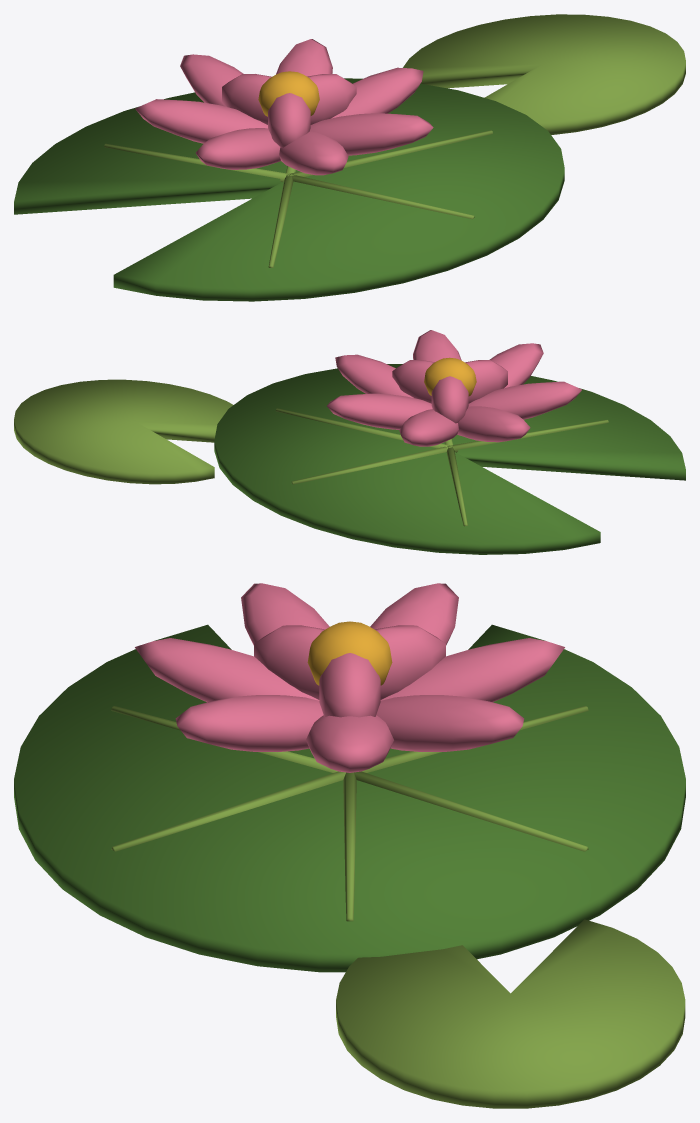
File: lvl02_environment_flowering_lily_pads_lite_v01.glb
The picture shows the model from 3 angles, top to bottom: view 1: azimuth 30°, elevation 25°; view 2: azimuth 150°, elevation 25°; view 3: azimuth 270°, elevation 25°; orthographic projection. The views are drawn at different scales.
Visible parts, largest first — view 1: lily_pad_main, lily_pad_small, flower_outer_petal_6, flower_outer_petal_3, flower_outer_petal_4, flower_outer_petal_0, flower_outer_petal_5, flower_outer_petal_2, flower_inner_petal_2, flower_heart, flower_inner_petal_0, flower_inner_petal_1 (+5 smaller); view 2: lily_pad_main, lily_pad_small, flower_outer_petal_1, flower_outer_petal_4, flower_outer_petal_3, flower_outer_petal_0, flower_outer_petal_2, flower_outer_petal_5, flower_inner_petal_1, flower_heart, flower_inner_petal_0, flower_inner_petal_2 (+5 smaller); view 3: lily_pad_main, lily_pad_small, flower_outer_petal_1, flower_outer_petal_6, flower_outer_petal_2, flower_outer_petal_5, flower_outer_petal_0, flower_inner_petal_0, flower_heart, flower_outer_petal_3, flower_outer_petal_4, flower_inner_petal_1 (+6 smaller).
Part boxes in pixels (x1,y1,x2,y2): lily_pad_main: (14, 78, 564, 301); lily_pad_small: (403, 14, 685, 134); flower_outer_petal_6: (310, 113, 433, 155); flower_outer_petal_3: (135, 99, 267, 143); flower_outer_petal_4: (196, 128, 280, 169); flower_outer_petal_0: (331, 67, 423, 118); flower_outer_petal_5: (279, 131, 348, 175); flower_outer_petal_2: (180, 54, 243, 106); flower_inner_petal_2: (268, 93, 310, 147); flower_heart: (258, 71, 319, 116); flower_inner_petal_0: (307, 74, 356, 124); flower_inner_petal_1: (222, 74, 271, 124); lily_pad_main: (214, 364, 685, 554); lily_pad_small: (14, 379, 233, 484); flower_outer_petal_1: (327, 393, 432, 429); flower_outer_petal_4: (468, 381, 581, 419); flower_outer_petal_3: (457, 406, 530, 442); flower_outer_petal_0: (335, 354, 413, 397); flower_outer_petal_2: (399, 409, 458, 446); flower_outer_petal_5: (489, 343, 543, 388); flower_inner_petal_1: (431, 376, 468, 423); flower_heart: (424, 357, 476, 396); flower_inner_petal_0: (392, 360, 434, 403); flower_inner_petal_2: (465, 360, 507, 403); lily_pad_main: (14, 624, 685, 972); lily_pad_small: (336, 919, 685, 1108); flower_outer_petal_1: (376, 695, 524, 751); flower_outer_petal_6: (175, 695, 323, 751); flower_outer_petal_2: (380, 638, 564, 702); flower_outer_petal_5: (135, 638, 319, 702); flower_outer_petal_0: (306, 715, 393, 772); flower_inner_petal_0: (319, 653, 380, 717); flower_heart: (307, 621, 392, 685); flower_outer_petal_3: (370, 583, 458, 645); flower_outer_petal_4: (241, 583, 329, 645); flower_inner_petal_1: (375, 625, 445, 699).
Bounding box in the file's own units: 2.72 × 0.485 × 1.67.
